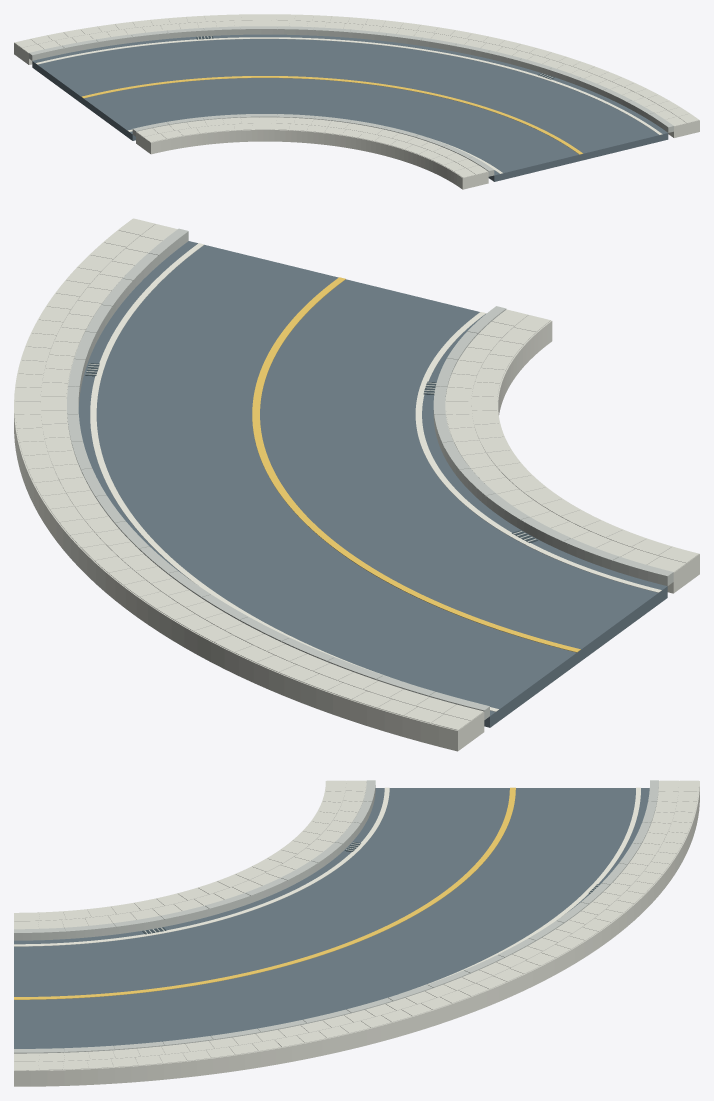
File: SIMUS_Road_Corner_90.glb
The picture shows the model from 3 angles, top to bottom: view 1: azimuth 30°, elevation 25°; view 2: azimuth 150°, elevation 25°; view 3: azimuth 270°, elevation 25°; orthographic projection. The views are drawn at different scales.
Visible parts, largest first — view 1: Curved road surface, Outer paving, Outer curb, Inner paving, Inner sidewalk foundation, Inner curb, Outer white edge, Yellow center line, Outer sidewalk foundation; view 2: Curved road surface, Outer paving, Inner paving, Outer sidewalk foundation, Outer curb, Inner curb, Yellow center line, Outer white edge, Inner sidewalk foundation, Inner white edge; view 3: Curved road surface, Outer paving, Outer sidewalk foundation, Inner paving, Inner curb, Outer curb, Yellow center line, Inner white edge, Outer white edge.
Boxes of the visible parts, x1,y1,x2,y2 form: Curved road surface: (32,34,668,181); Outer paving: (15,14,698,126); Outer curb: (29,26,673,132); Inner paving: (136,117,487,177); Inner sidewalk foundation: (136,117,488,189); Inner curb: (132,114,494,176); Outer white edge: (35,37,662,134); Yellow center line: (81,76,582,154); Outer sidewalk foundation: (14,14,699,137); Curved road surface: (78,241,667,727); Outer paving: (15,218,483,730); Inner paving: (446,309,698,572); Outer sidewalk foundation: (14,219,484,751); Outer curb: (67,228,489,719); Inner curb: (433,306,673,585); Yellow center line: (252,277,580,652); Outer white edge: (90,243,498,711); Inner sidewalk foundation: (445,313,699,593); Inner white edge: (415,312,661,592); Curved road surface: (14,788,649,1048); Outer paving: (14,780,698,1070); Outer sidewalk foundation: (14,781,699,1086); Inner paving: (14,780,366,929); Inner curb: (14,780,375,940); Outer curb: (14,780,658,1053); Yellow center line: (14,787,515,999); Inner white edge: (14,787,389,946); Outer white edge: (412,787,640,989).
Size of the model in its own units: 13.75 by 0.37 by 13.75.
